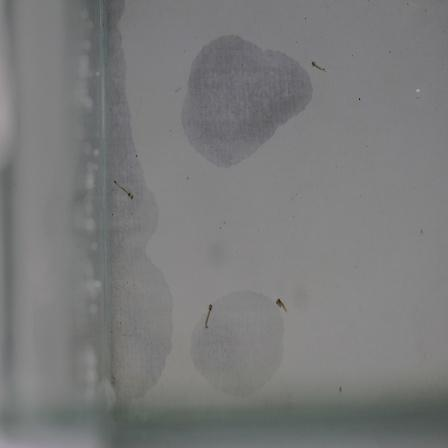Jentik-Nyamuk: (112, 173, 138, 207), (309, 54, 333, 80), (274, 293, 296, 319), (200, 298, 217, 331)
